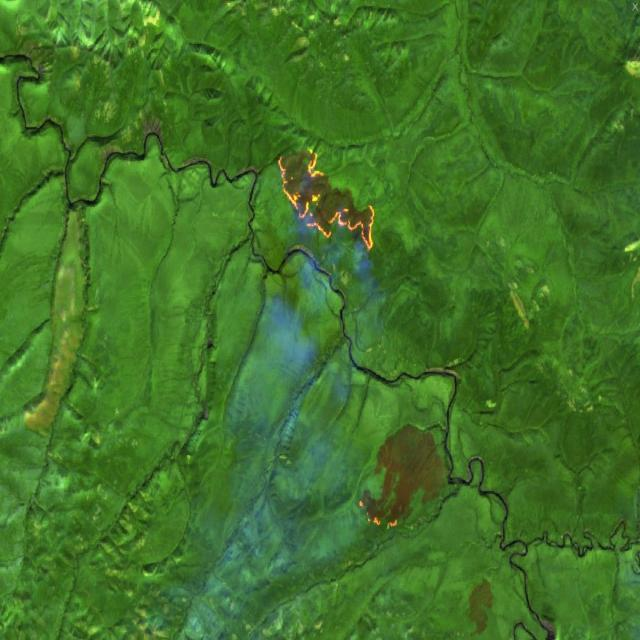fire: (275, 148, 376, 256)
